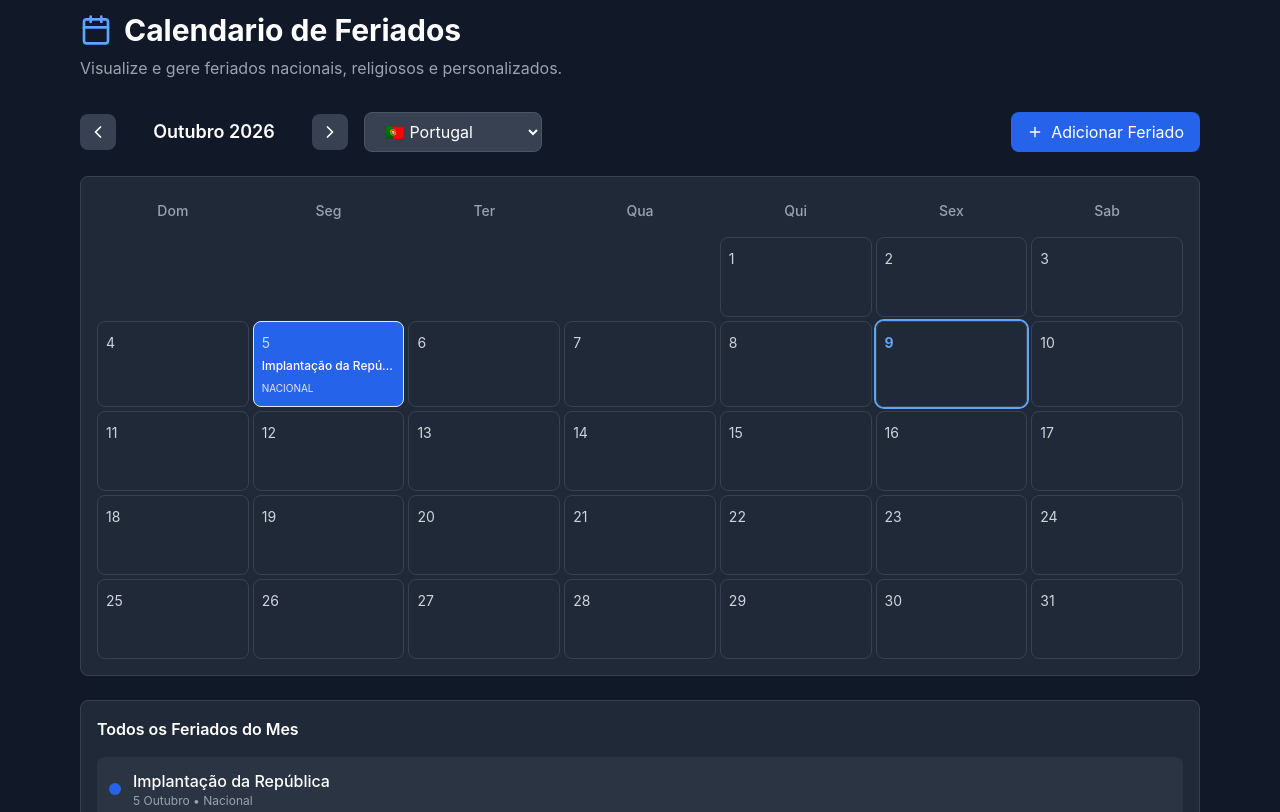
HolidayCalendar › should open add holiday form
The width and height of the screenshot is (1280, 812).
Click the button "Adicionar Feriado" at coordinates (1106, 132), box [1011, 112, 1200, 152]
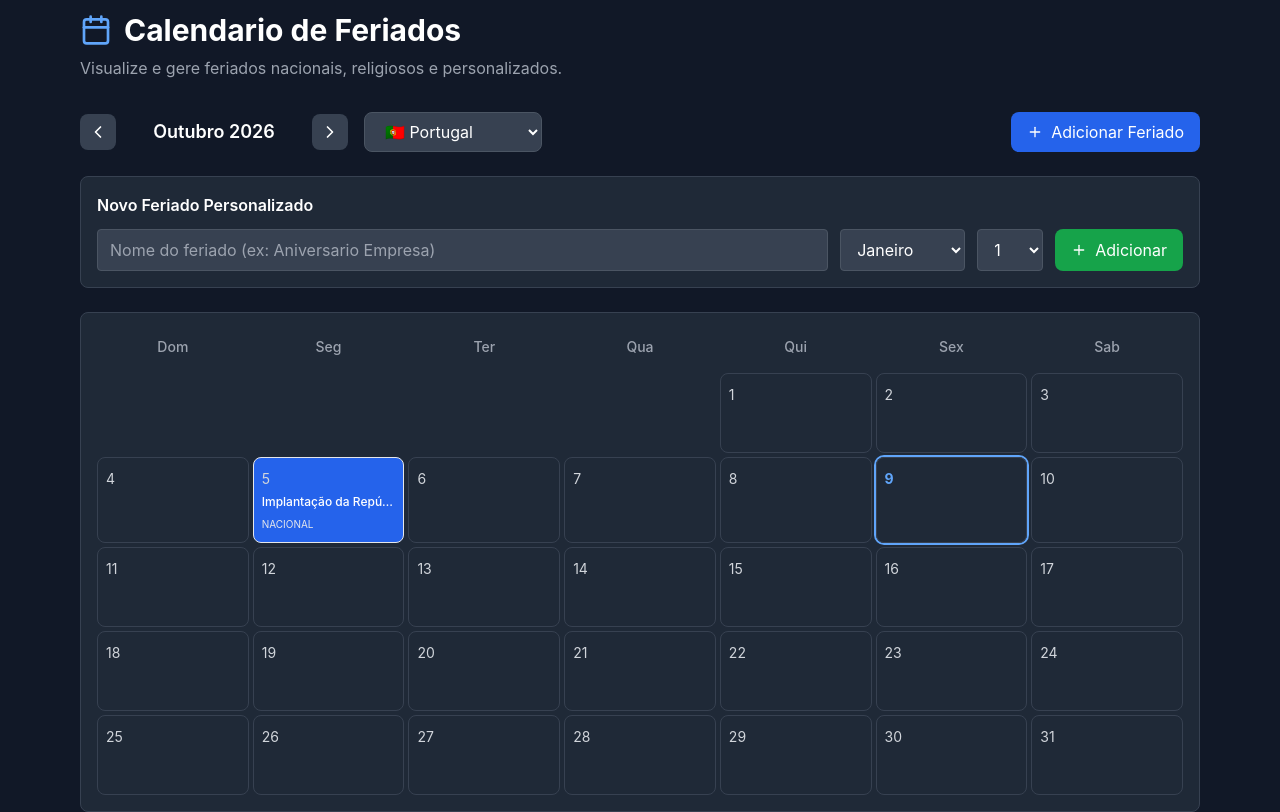
Expected: the heading "Novo Feriado Personalizado" is shown, [97, 195, 313, 215]
Expected: the field with placeholder "Nome do feriado (ex: Aniversario Empresa)" is shown, [97, 229, 828, 271]
